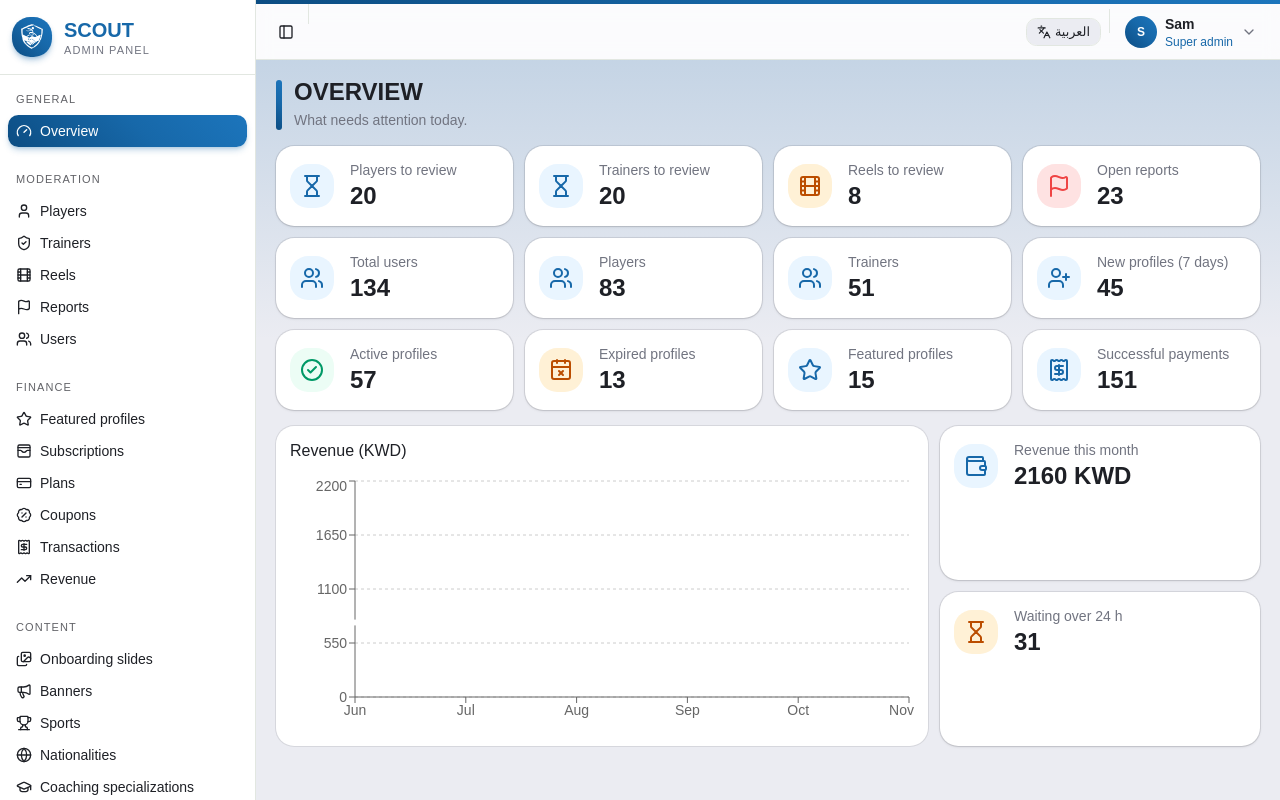
Scenario: AppLayout › switches to Arabic and right-to-left
The image size is (1280, 800).
Click the button with aria-label "Language".
click(1064, 32)  # box [1026,18,1101,46]
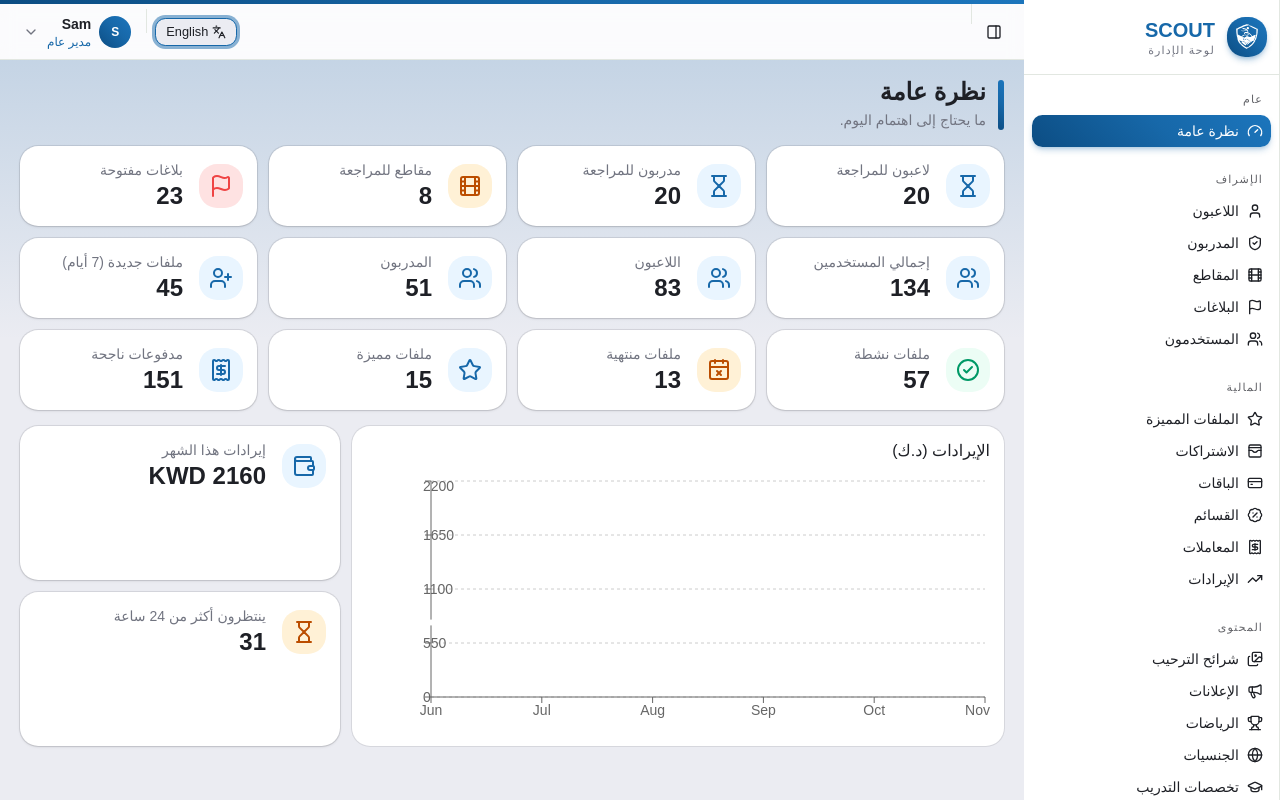
Now the heading "نظرة عامة" is shown, box [880,78,986,105]
